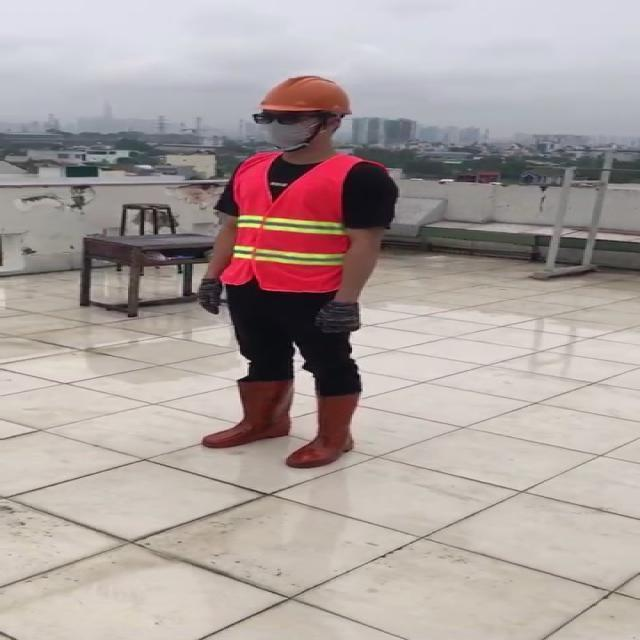gloves: (313, 299, 360, 335), (194, 275, 223, 317)
goggles: (251, 110, 329, 126)
helmet: (257, 71, 355, 116)
safety_vest: (218, 149, 385, 293)
